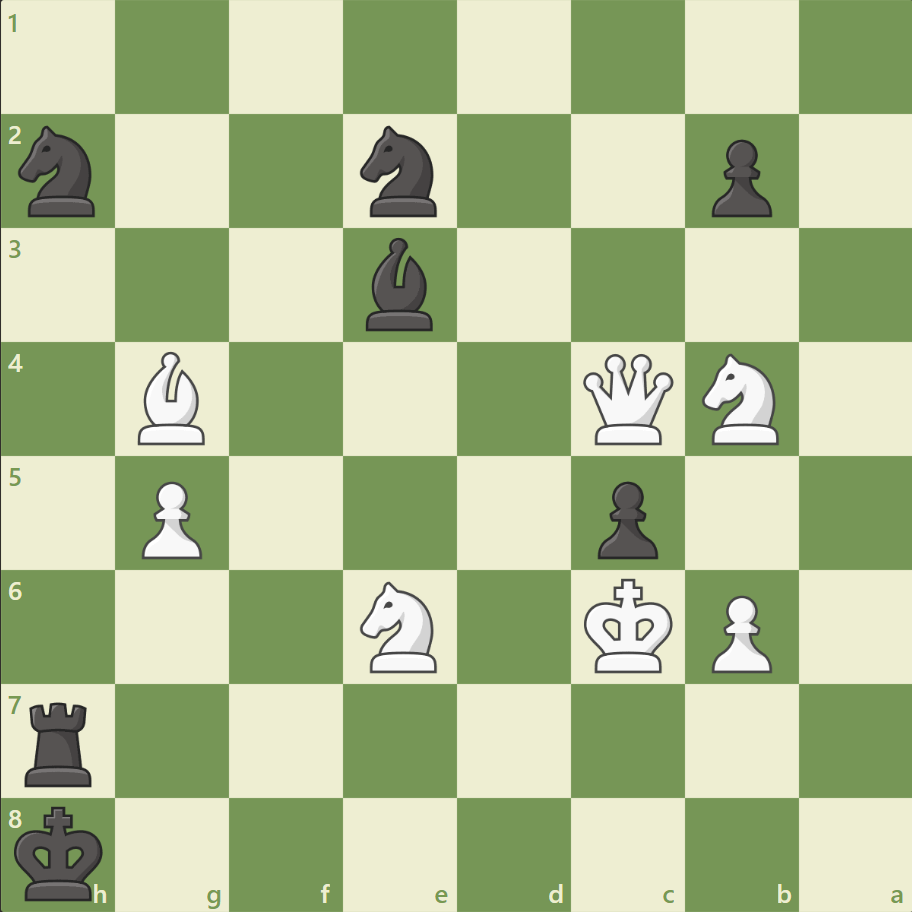B: (131, 347, 215, 449)
K: (579, 571, 679, 679)
N: (351, 575, 449, 677), (692, 348, 789, 450)
P: (701, 586, 776, 677), (133, 473, 208, 564)
Q: (578, 349, 677, 449)
b: (358, 233, 442, 336)
k: (11, 798, 111, 906)
n: (351, 121, 449, 223), (11, 121, 108, 223)
p: (701, 132, 776, 223), (588, 473, 662, 564)
r: (19, 693, 102, 790)
